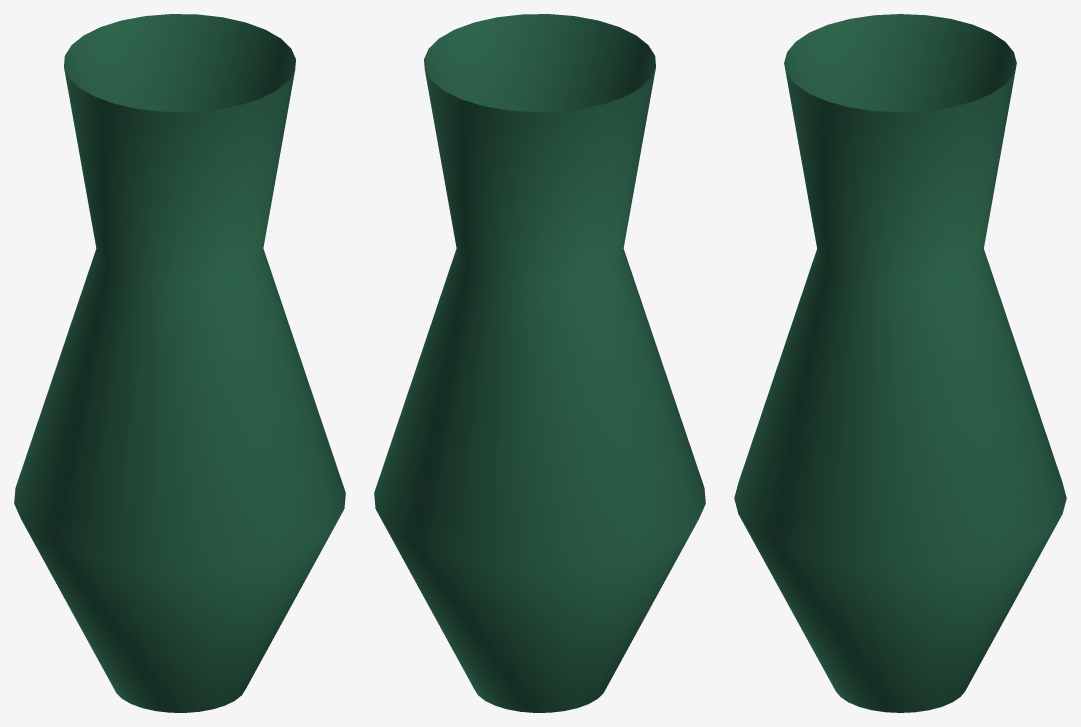
File: FET-VAS-std.glb
3 views of the same model, side by side, from view 1: azimuth 30°, elevation 25°; view 2: azimuth 150°, elevation 25°; view 3: azimuth 270°, elevation 25° (orthographic).
Visible parts, largest first — view 1: FET-VAS-std; view 2: FET-VAS-std; view 3: FET-VAS-std.
Part boxes in pixels (<box>): FET-VAS-std: <box>14,14,345,712</box>; FET-VAS-std: <box>374,14,705,712</box>; FET-VAS-std: <box>734,14,1066,712</box>.
Size of the model in its own units: 0.16 by 0.33 by 0.16.
